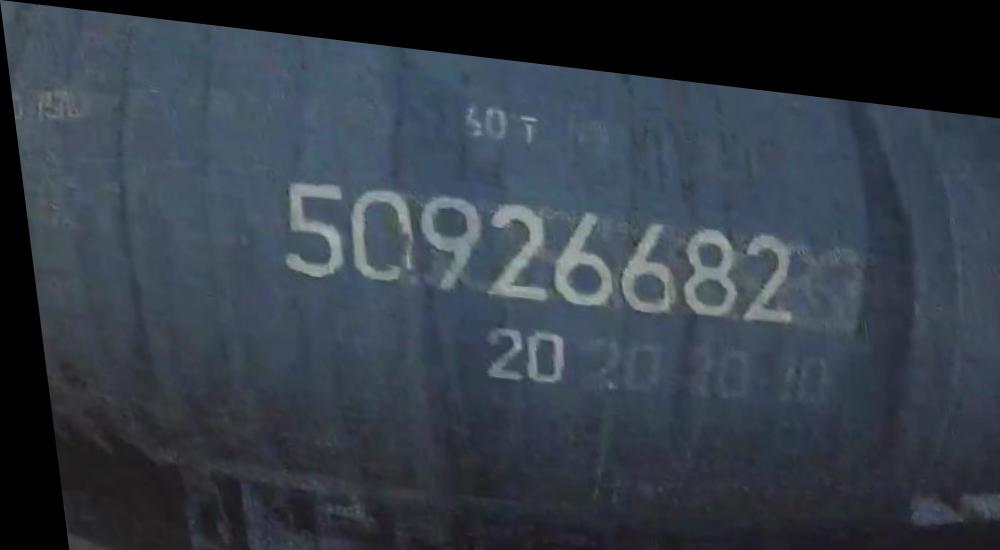Wagon-number: (265, 162, 795, 319)
